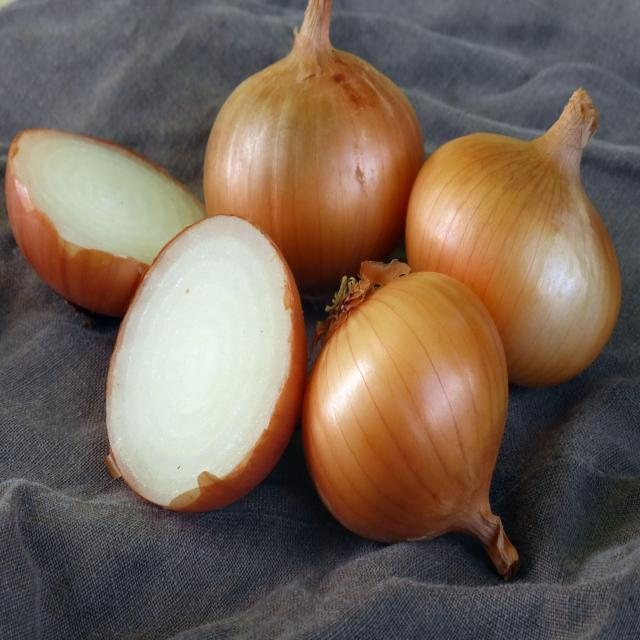Onion: (301, 254, 518, 580), (202, 0, 422, 306), (404, 88, 622, 389), (101, 212, 308, 514), (2, 125, 206, 314)
